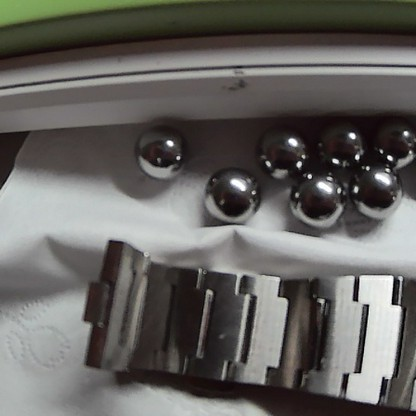ironball: (285, 167, 352, 229), (202, 162, 256, 234), (251, 120, 313, 175), (122, 120, 181, 177), (348, 162, 406, 214), (311, 113, 363, 163), (359, 115, 414, 162)
